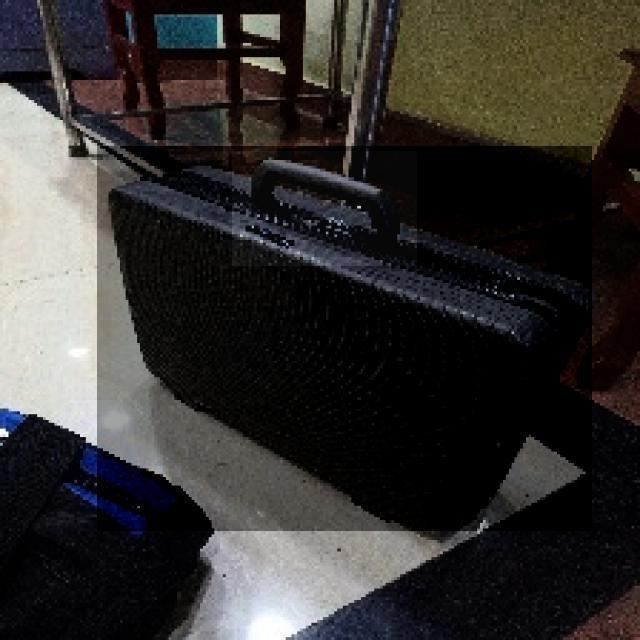Suitcase: (100, 146, 572, 542)
